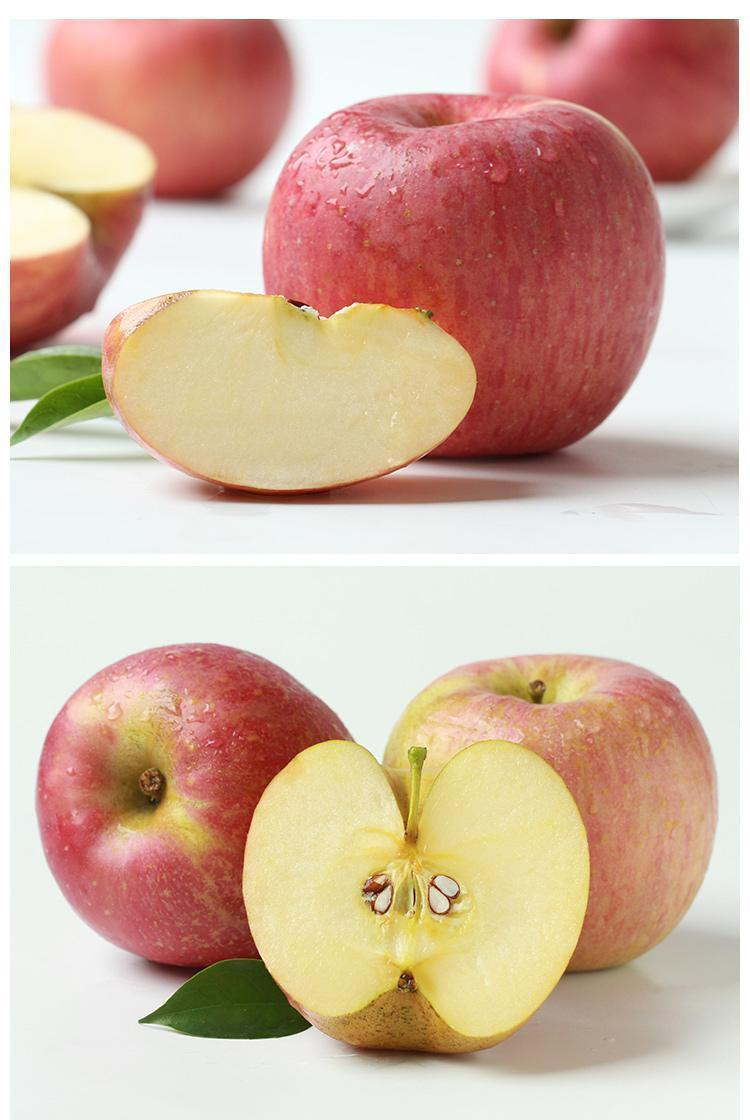apple: (262, 87, 675, 467), (33, 641, 369, 971), (383, 644, 719, 971), (36, 16, 300, 197), (478, 20, 746, 183)
